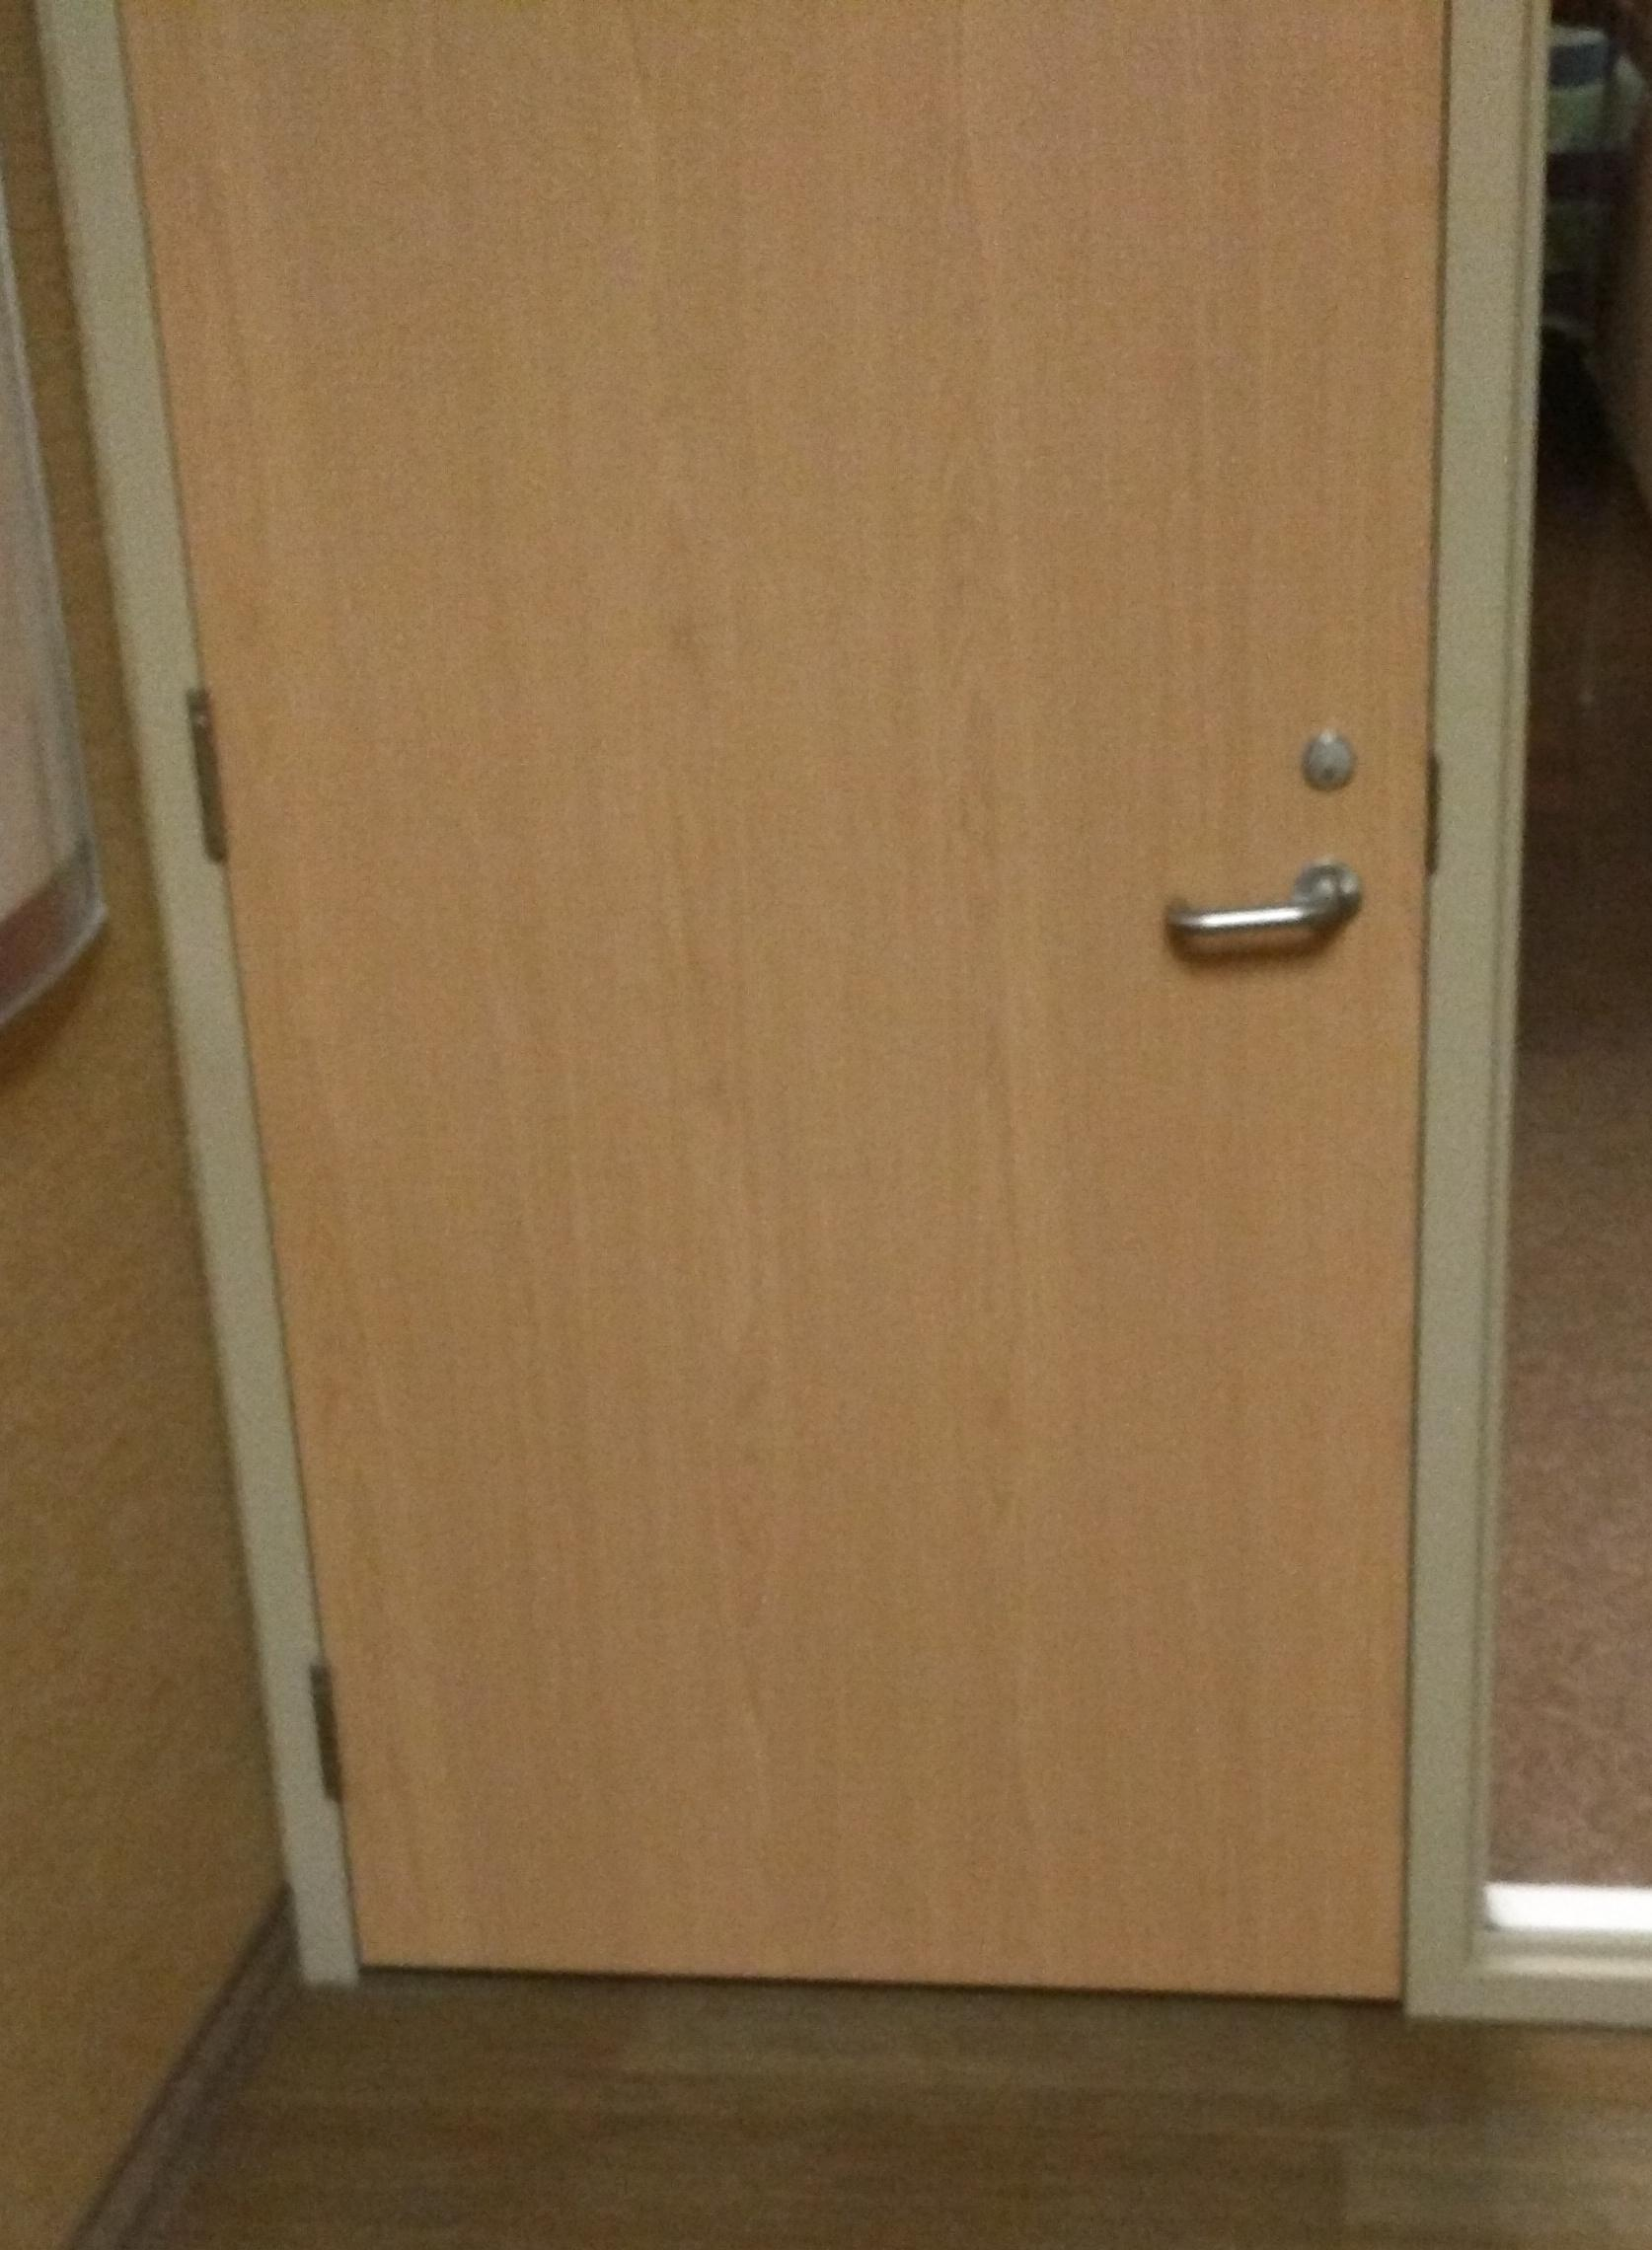door: (126, 2, 1465, 2014)
